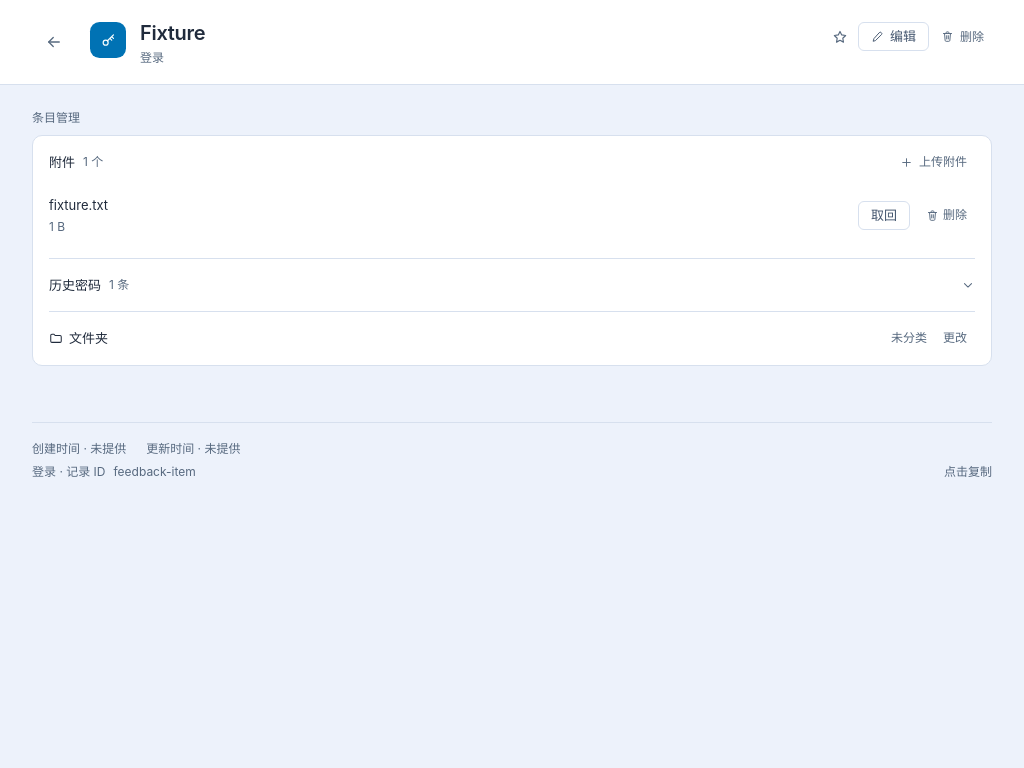
Test case: shows a resource failure exactly once through the notification owner
The image size is (1024, 768).
What coordinates should you click on to do the following:
click the button "取回"
I would click on:
 (884, 216)
Its box is [858,201,910,230].
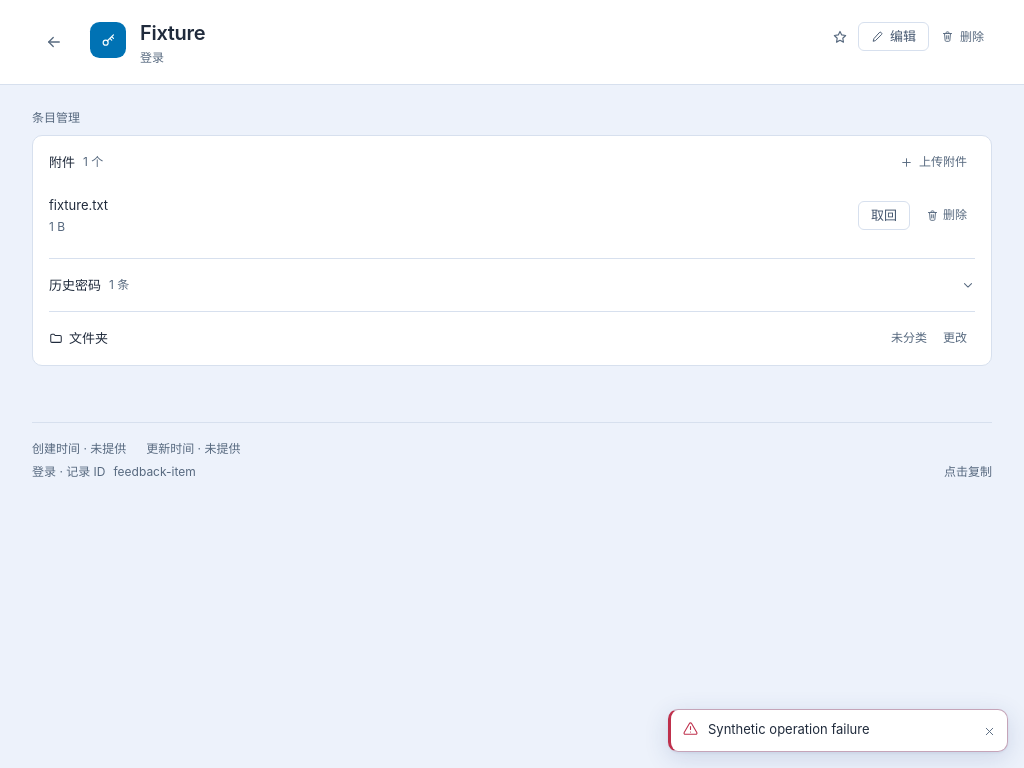
Now the message "Synthetic operation failure" is shown, box [668,709,1008,752]
